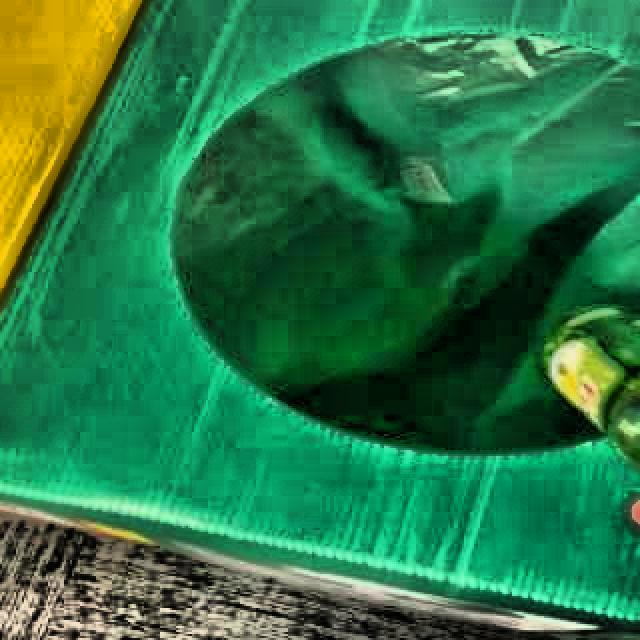glass: (547, 310, 640, 467)
